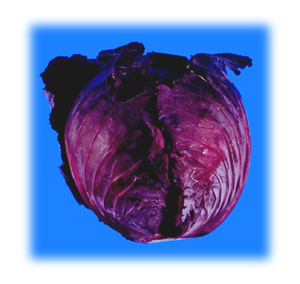cabbage: (38, 41, 255, 242)
